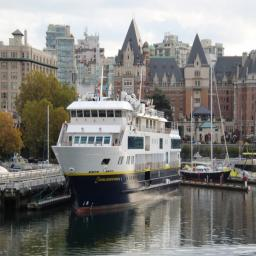cruises: (49, 66, 186, 218)
